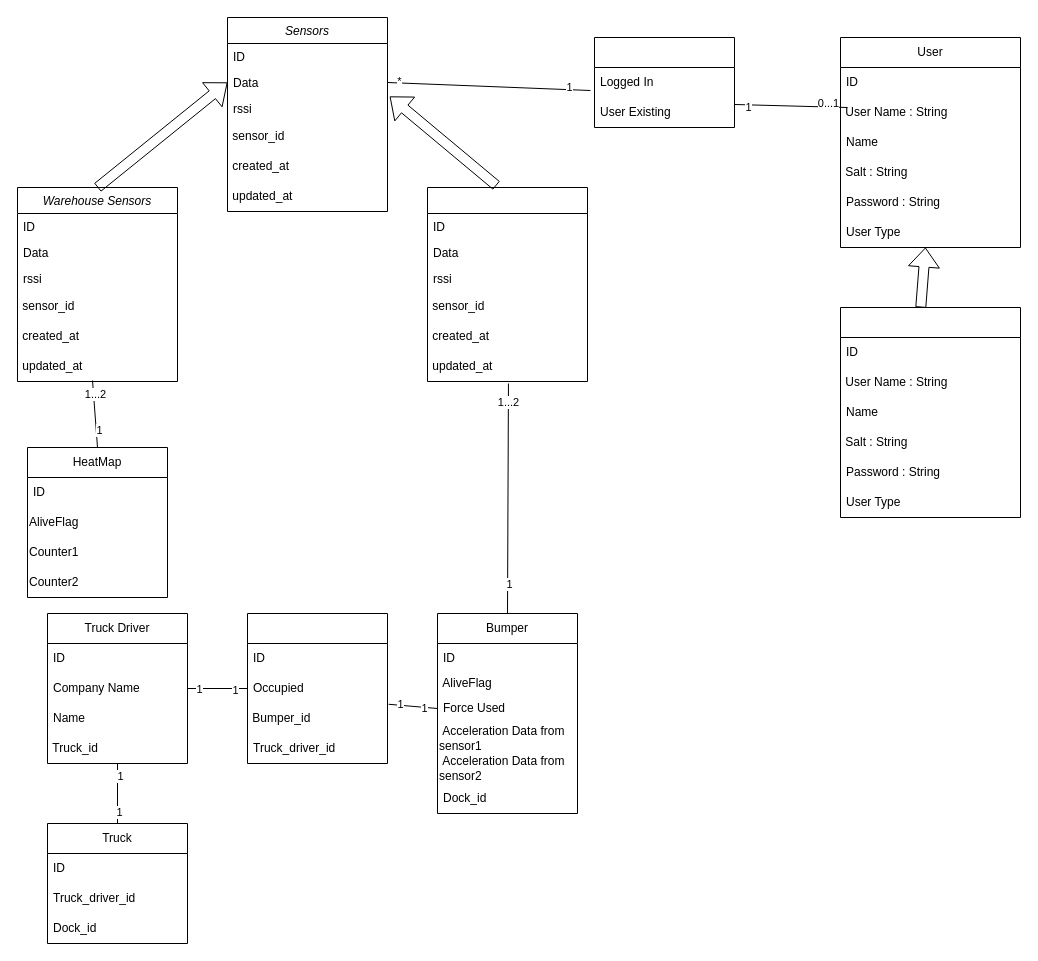
This 1038x961 diagram has some shape labels left out. Each missing label, with the box of its shape:
Admin: (840, 306, 1020, 518)
Bumper Sensors: (426, 186, 588, 382)
Controller: (594, 36, 734, 128)
Dock: (246, 612, 388, 764)
